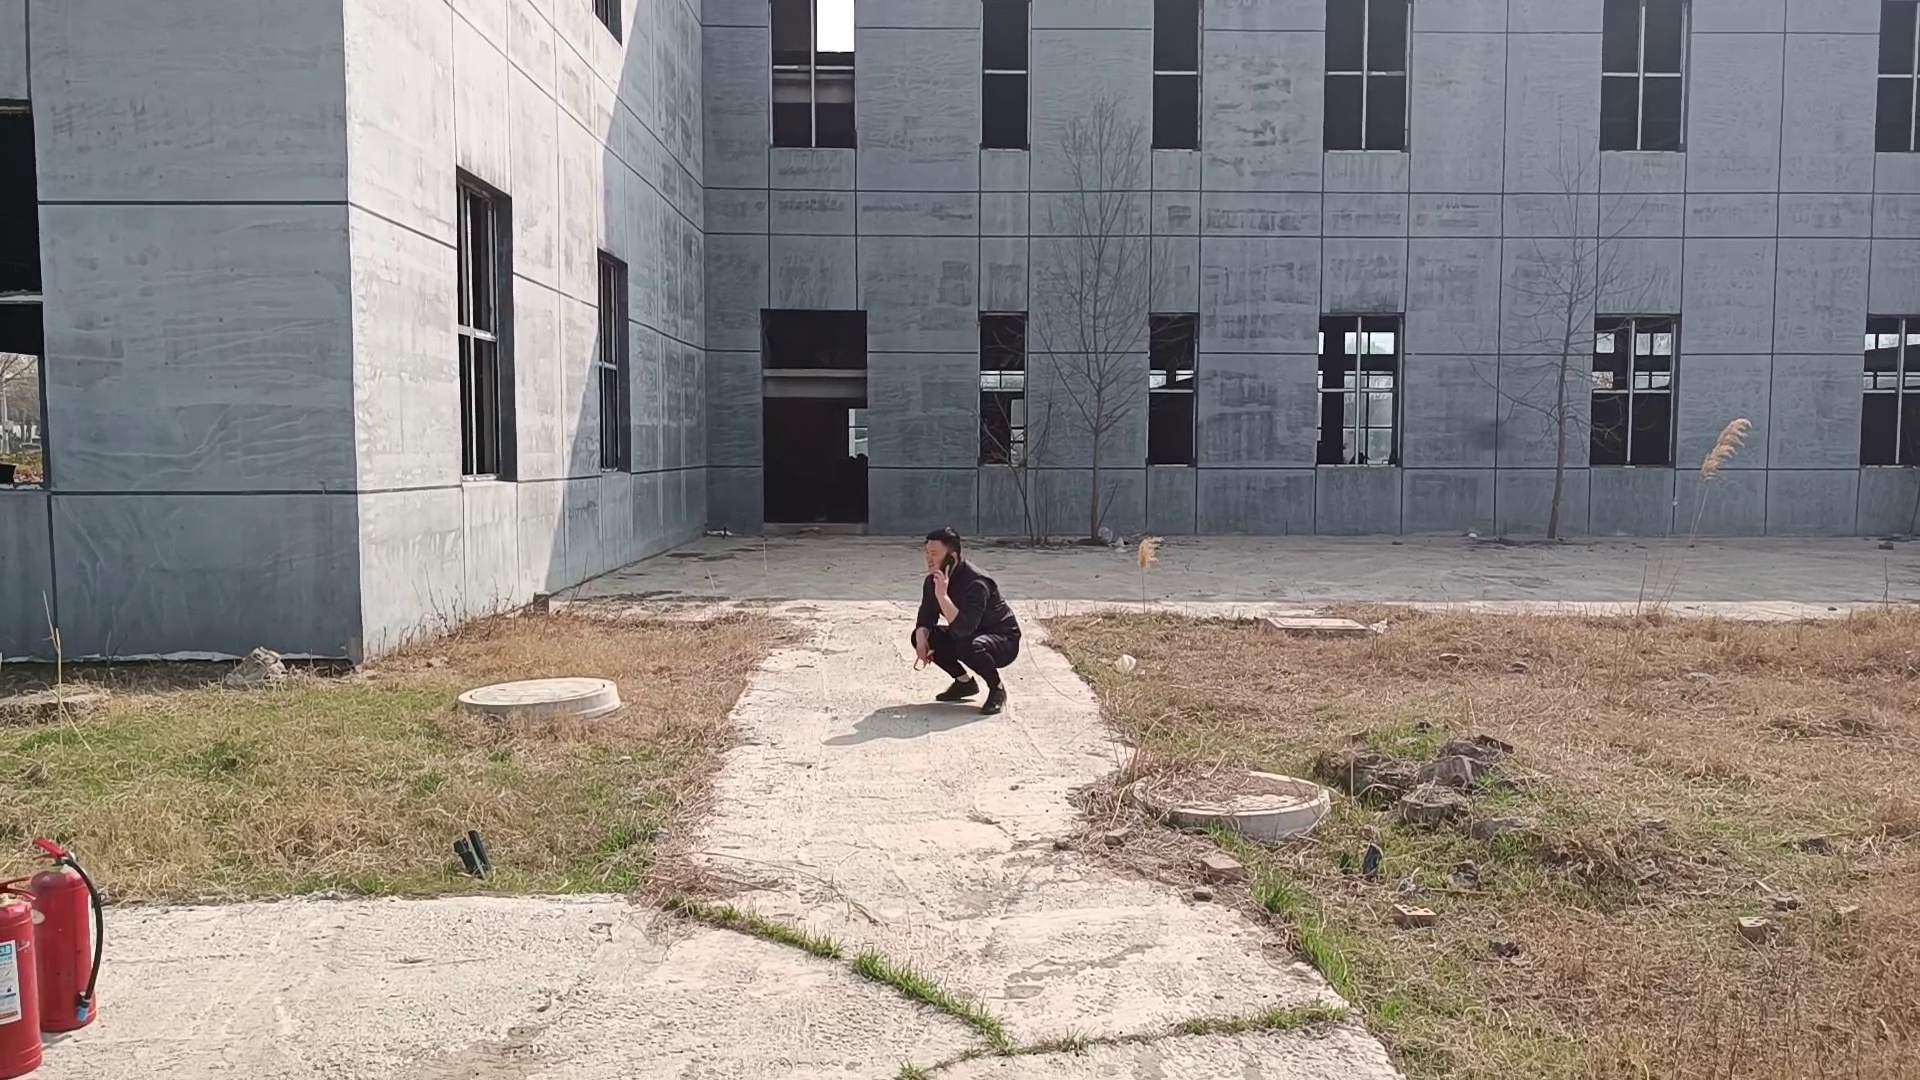phone: (916, 522, 964, 583)
